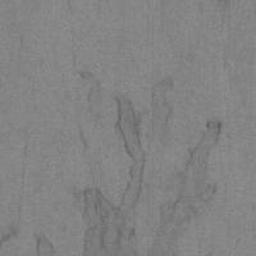Water spot: (63, 69, 227, 256), (32, 230, 56, 256)
